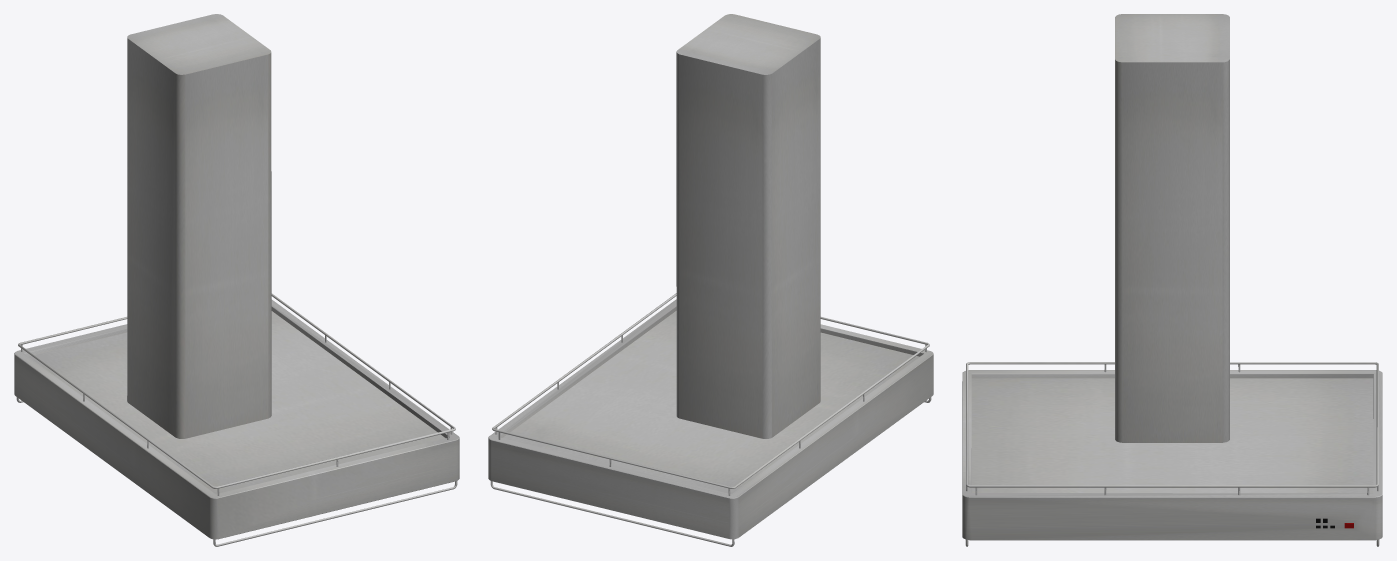
Rendered from Exhaust hood.FBX.
3 renders of one model, left to right at view 1: azimuth 30°, elevation 25°; view 2: azimuth 150°, elevation 25°; view 3: azimuth 270°, elevation 25°, orthographic. The views are drawn at different scales.
Parts seen in each view (by area): view 1: Exhaust hood; view 2: Exhaust hood; view 3: Exhaust hood.
Boxes of the visible parts, box(x1,y1,x2,y2) form: Exhaust hood: box(14, 14, 459, 546); Exhaust hood: box(488, 14, 933, 546); Exhaust hood: box(962, 14, 1382, 546).
Size of the model in its own units: 24.84 by 39 by 34.65.
1 material, 1 textured.
